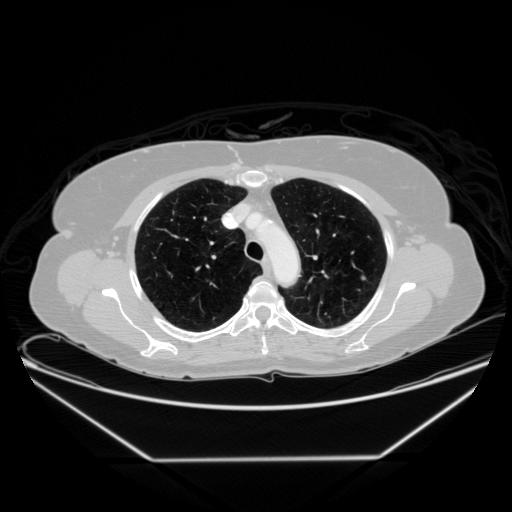nodule: (358, 273, 368, 283)
